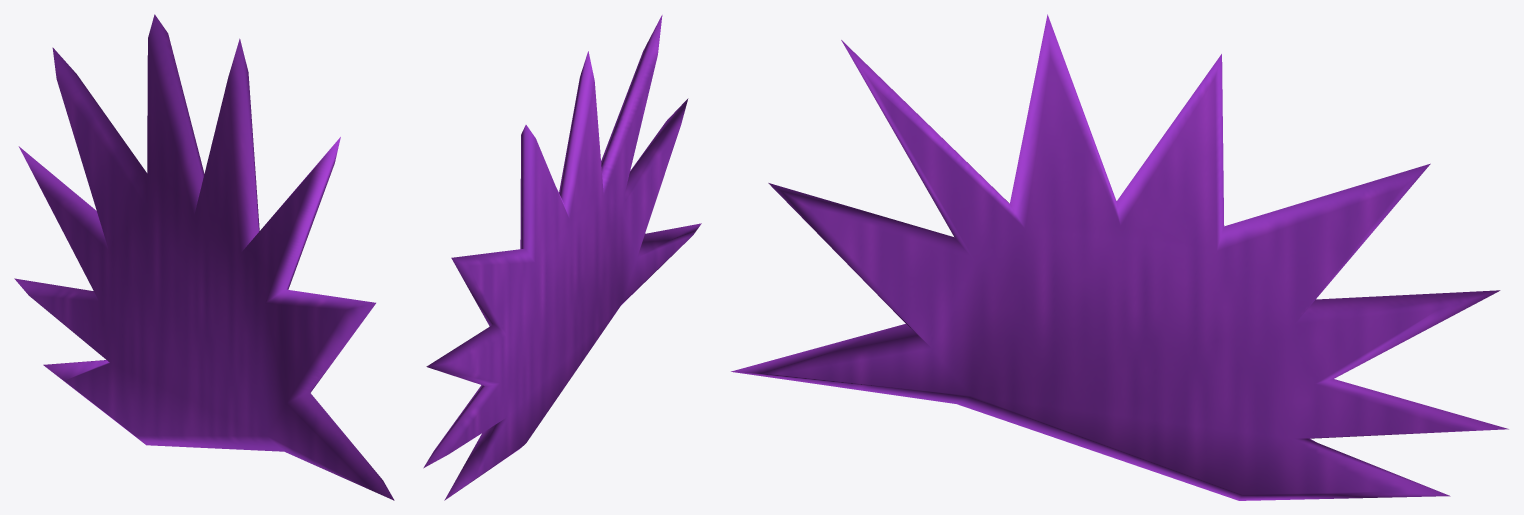
The model's file is buzzsaw.glb.
3 views of the same model, side by side, from view 1: azimuth 30°, elevation 25°; view 2: azimuth 150°, elevation 25°; view 3: azimuth 270°, elevation 25° (orthographic). The views are drawn at different scales.
Parts seen in each view (by area): view 1: Buzzsaw; view 2: Buzzsaw; view 3: Buzzsaw.
Part boxes in pixels (bbox=[...]): Buzzsaw: bbox=[14, 14, 394, 500]; Buzzsaw: bbox=[423, 15, 701, 500]; Buzzsaw: bbox=[731, 14, 1508, 500].
Size of the model in its own units: 0.0152 by 0.3415 by 0.4954.
Materials: 1 (1 with a texture image).
